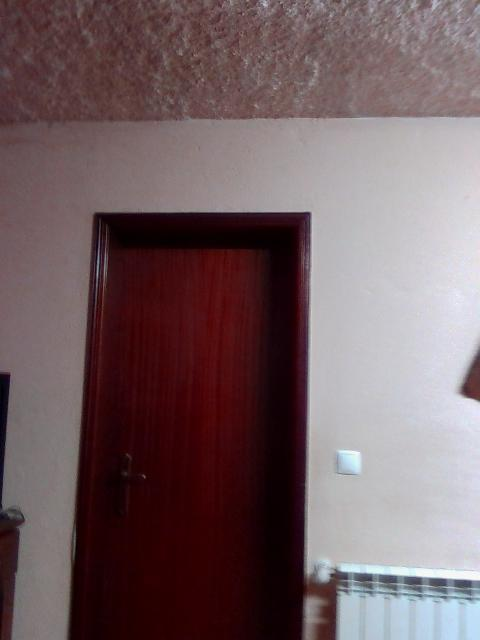closed_door: (64, 208, 317, 639)
